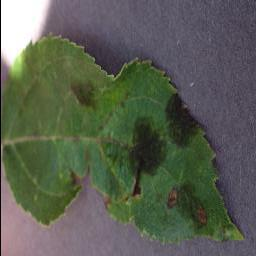apple healthy: (1, 32, 245, 245)
